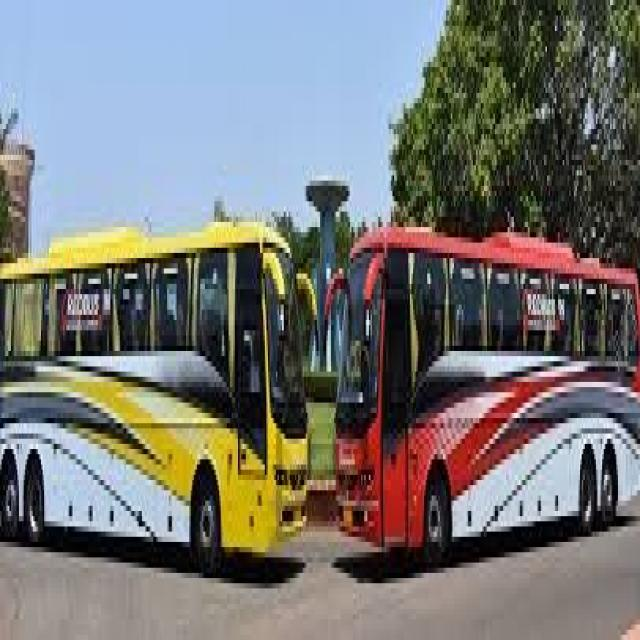bus: (20, 179, 322, 606), (325, 184, 640, 573)
